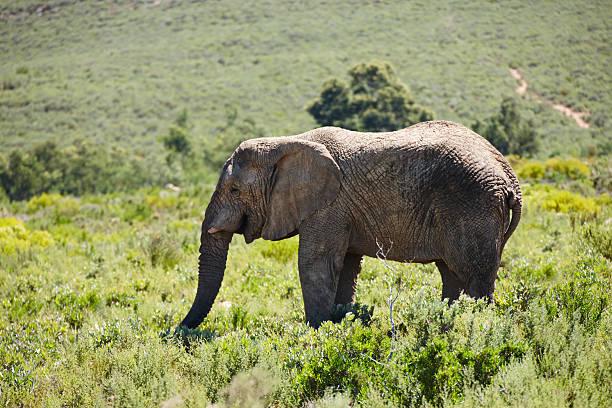africanelephant: (190, 148, 345, 242)
